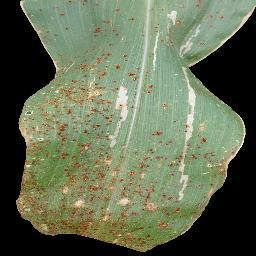Corn_Common_Rust: (21, 0, 145, 256), (147, 120, 242, 255), (164, 0, 256, 52), (178, 63, 205, 117), (151, 0, 162, 71), (142, 79, 160, 97), (162, 97, 177, 116)
